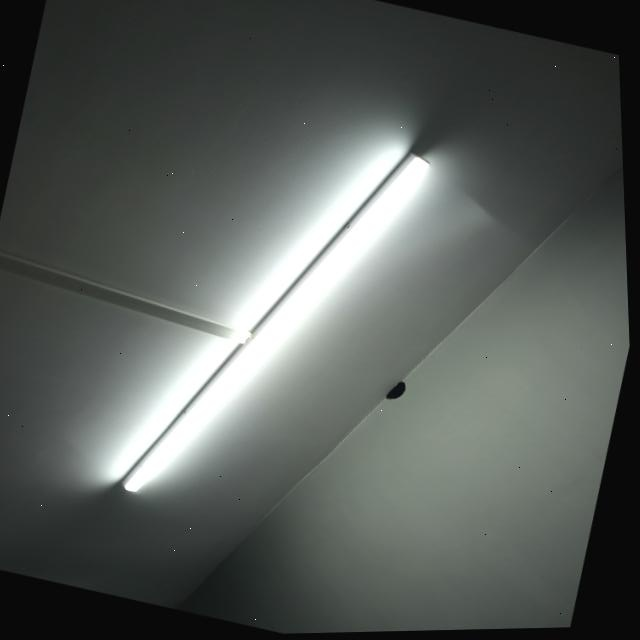fluorescent tube: (98, 86, 458, 556)
